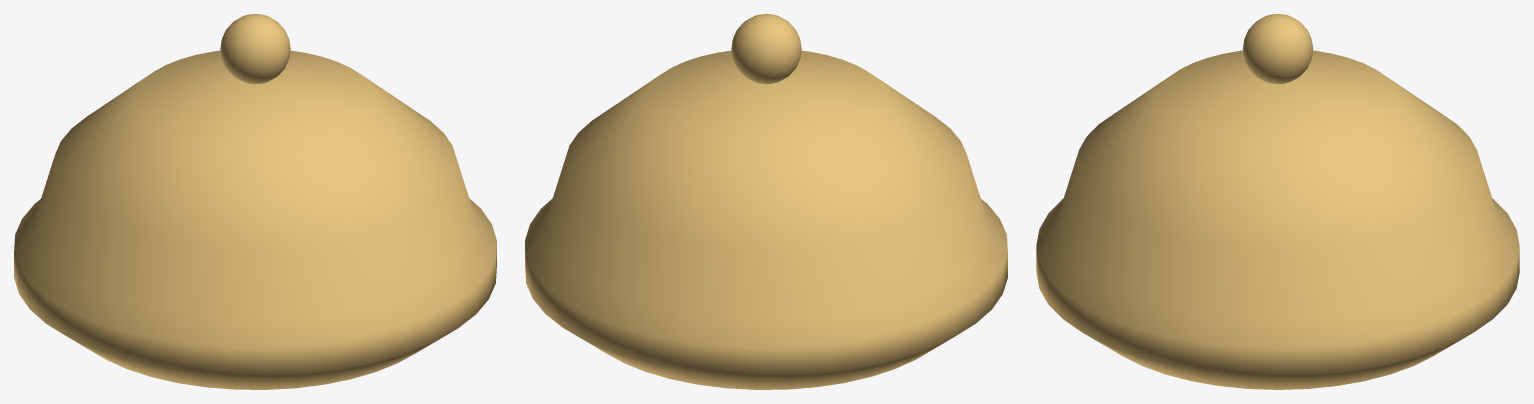
Rendered from royal-court-and-throne-palace-covered-serving-dish-b772cf10__29409.glb.
3 views of the same model, side by side, from view 1: azimuth 30°, elevation 25°; view 2: azimuth 150°, elevation 25°; view 3: azimuth 270°, elevation 25° (orthographic).
Parts seen in each view (by area): view 1: covered-serving-dish; view 2: covered-serving-dish; view 3: covered-serving-dish.
Boxes of the visible parts, x1=… form: covered-serving-dish: x1=14, y1=14, x2=496, y2=389; covered-serving-dish: x1=525, y1=14, x2=1007, y2=389; covered-serving-dish: x1=1036, y1=14, x2=1519, y2=389.
Bounding box in the file's own units: 0.48 × 0.32 × 0.48.
